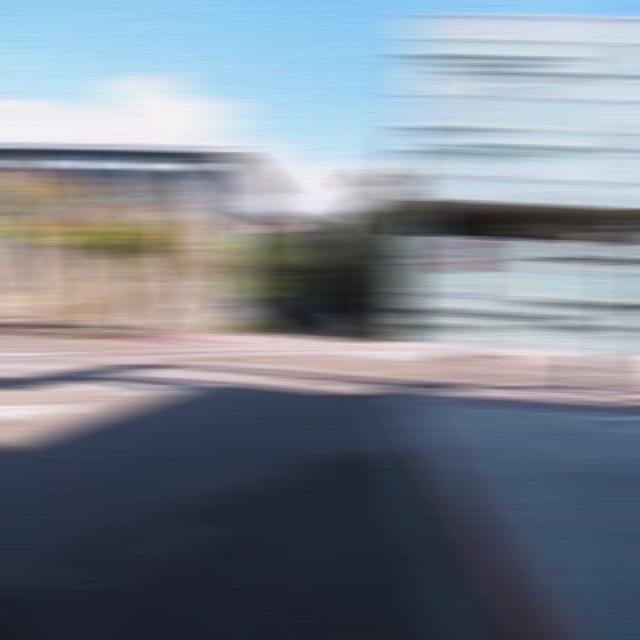stop_sign: (442, 235, 486, 273)
